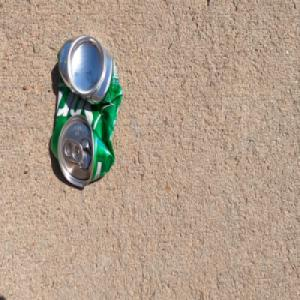SodaCan: (50, 33, 124, 190)
